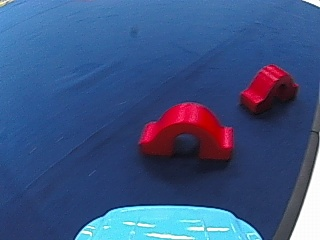bridge: (133, 97, 237, 162), (236, 61, 299, 116)
